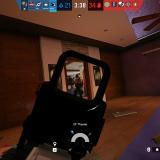Character: (72, 74, 84, 99)
Head: (75, 74, 80, 80)
